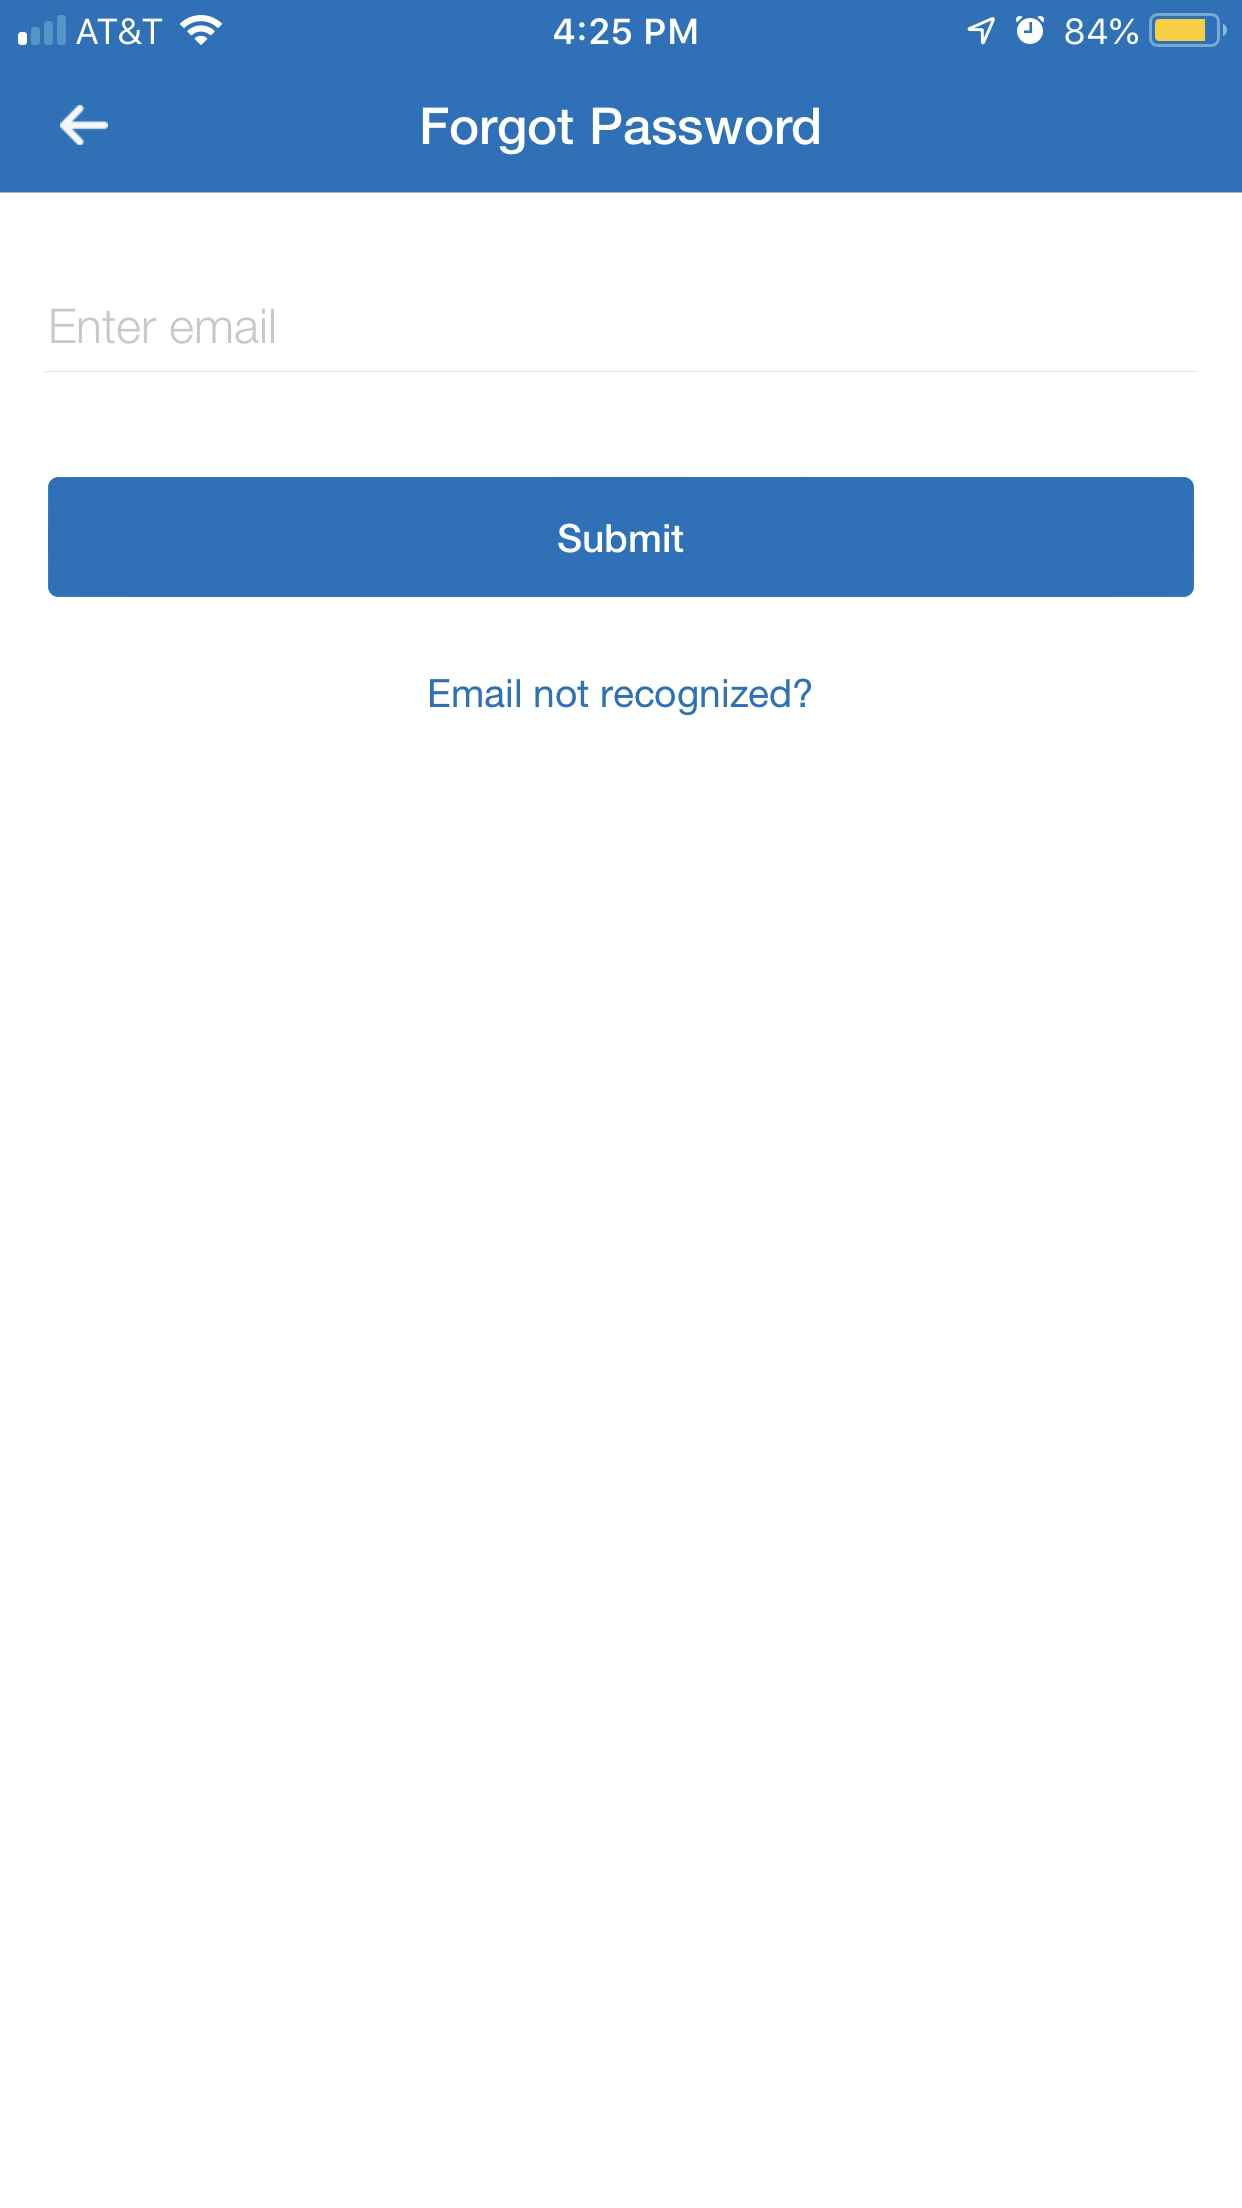EditText: (45, 308, 1198, 375)
Icon: (61, 105, 111, 147)
Text: (423, 108, 820, 158), (431, 678, 811, 716), (52, 308, 276, 346)
TextButton: (49, 478, 1195, 597)
UpperTaskBar: (2, 2, 1242, 49)
